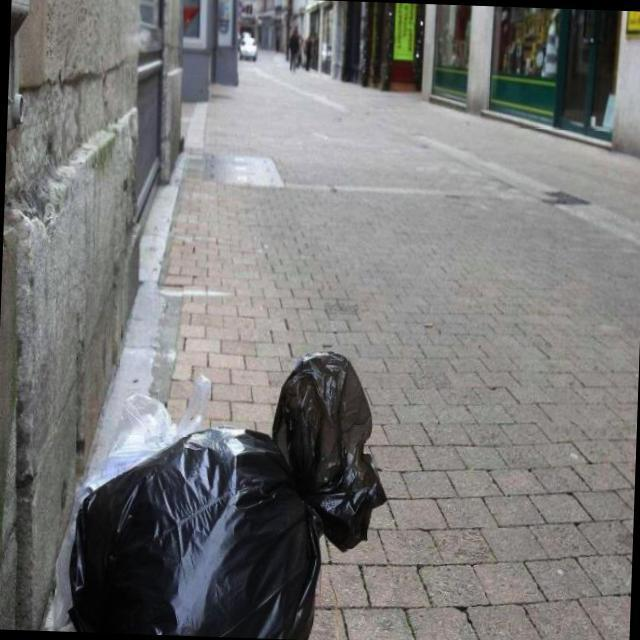garbage: (45, 332, 399, 640)
